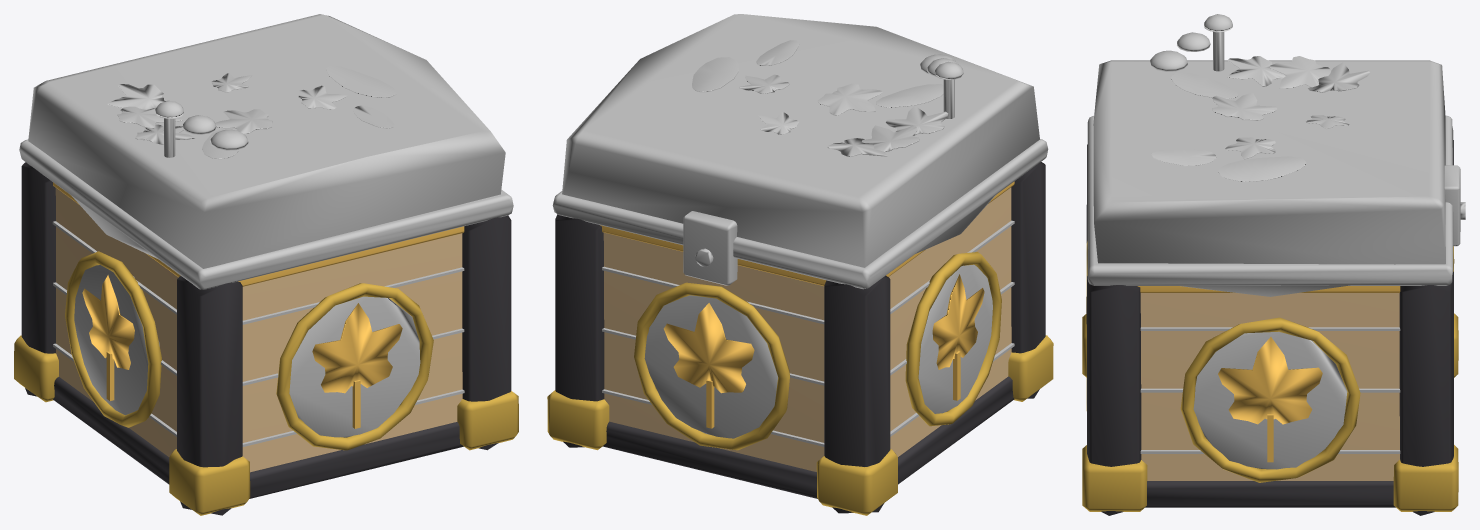
Rendered from HollowCrate.obj.
3 renders of one model, left to right at view 1: azimuth 30°, elevation 25°; view 2: azimuth 150°, elevation 25°; view 3: azimuth 270°, elevation 25°, orthographic.
Visible parts, largest first — view 1: LidWood, Iron, Wood, Brass, WoodDark, LidIron, Glow, LidLeaf, LidLeaf3, LidLeaf4, LidLeaf2; view 2: LidWood, Iron, Wood, Brass, WoodDark, LidIron, Glow, LidLeaf, LidBrass, LidLeaf2, LidLeaf4, LidLeaf3; view 3: LidWood, Iron, Wood, Brass, WoodDark, LidIron, Glow, LidLeaf, LidLeaf2, LidLeaf3, LidLeaf4, LidBrass (+1 smaller).
Boxes of the visible parts, x1,y1,x2,y2 form: LidWood: (28, 14, 505, 268); Iron: (21, 162, 511, 515); Wood: (55, 188, 462, 472); Brass: (14, 251, 518, 515); WoodDark: (52, 221, 464, 446); LidIron: (19, 139, 513, 289); Glow: (53, 182, 464, 428); LidLeaf: (215, 65, 396, 133); LidLeaf3: (155, 73, 252, 150); LidLeaf4: (107, 84, 195, 144); LidLeaf2: (117, 106, 238, 159); LidWood: (562, 14, 1039, 267); Iron: (555, 162, 1045, 513); Wood: (603, 187, 1011, 471); Brass: (547, 252, 1053, 515); WoodDark: (602, 220, 1014, 446); LidIron: (552, 139, 1048, 289); Glow: (600, 181, 1014, 428); LidLeaf: (692, 40, 882, 116); LidBrass: (683, 211, 737, 285); LidLeaf2: (862, 84, 943, 151); LidLeaf4: (827, 106, 948, 157); LidLeaf3: (758, 54, 963, 135); LidWood: (1093, 60, 1445, 296); Iron: (1086, 140, 1453, 515); Wood: (1140, 293, 1399, 480); Brass: (1082, 241, 1458, 511); WoodDark: (1140, 327, 1400, 469); LidIron: (1087, 115, 1453, 285); Glow: (1137, 259, 1454, 462); LidLeaf: (1151, 92, 1306, 182); LidLeaf2: (1170, 56, 1331, 99); LidLeaf3: (1150, 14, 1349, 129); LidLeaf4: (1227, 56, 1370, 92); LidBrass: (1444, 165, 1460, 246).
Bounding box in the file's own units: 3.34 × 3.55 × 3.4.
